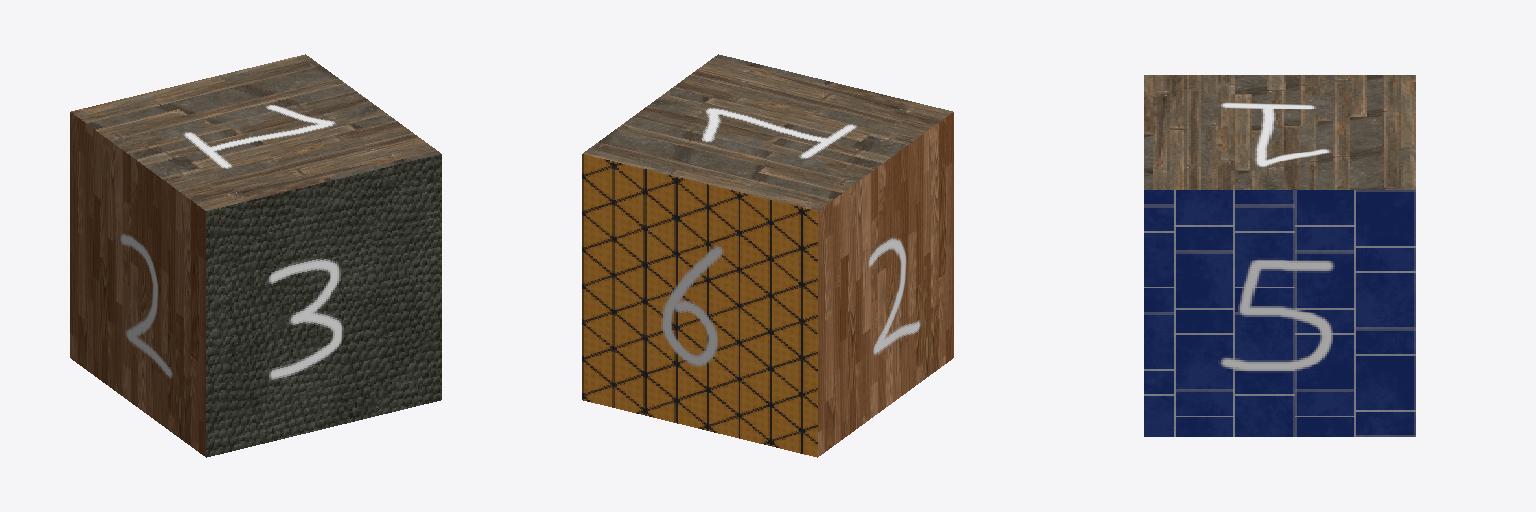
3 renders of one model, left to right at view 1: azimuth 30°, elevation 25°; view 2: azimuth 150°, elevation 25°; view 3: azimuth 270°, elevation 25°, orthographic.
Parts seen in each view (by area): view 1: Cube; view 2: Cube; view 3: Cube.
Part boxes in pixels (bbox=[...]): Cube: bbox=[70, 54, 441, 457]; Cube: bbox=[582, 54, 953, 457]; Cube: bbox=[1144, 75, 1415, 436].
Bounding box in the file's own units: 2 × 2 × 2.
1 materials, 1 textured.